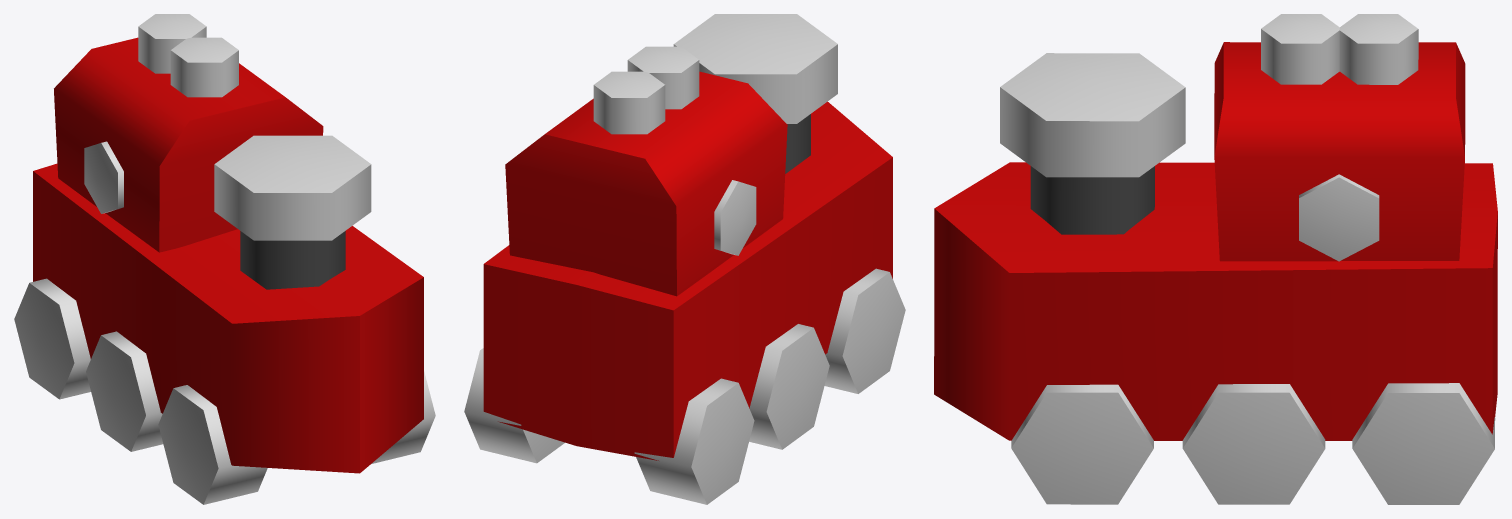
Rendered from ChristmasDecoTrain.fbx.
The picture shows the model from 3 angles, left to right: view 1: azimuth 30°, elevation 25°; view 2: azimuth 150°, elevation 25°; view 3: azimuth 270°, elevation 25°; orthographic projection. The views are drawn at different scales.
Visible parts, largest first — view 1: ChristmasDecoTrain; view 2: ChristmasDecoTrain; view 3: ChristmasDecoTrain.
Boxes of the visible parts, x1,y1,x2,y2 form: ChristmasDecoTrain: (14, 14, 435, 504); ChristmasDecoTrain: (464, 14, 905, 504); ChristmasDecoTrain: (934, 14, 1497, 504).
Bounding box in the file's own units: 0.1384 × 0.2056 × 0.2511.
1 material, 1 textured.
